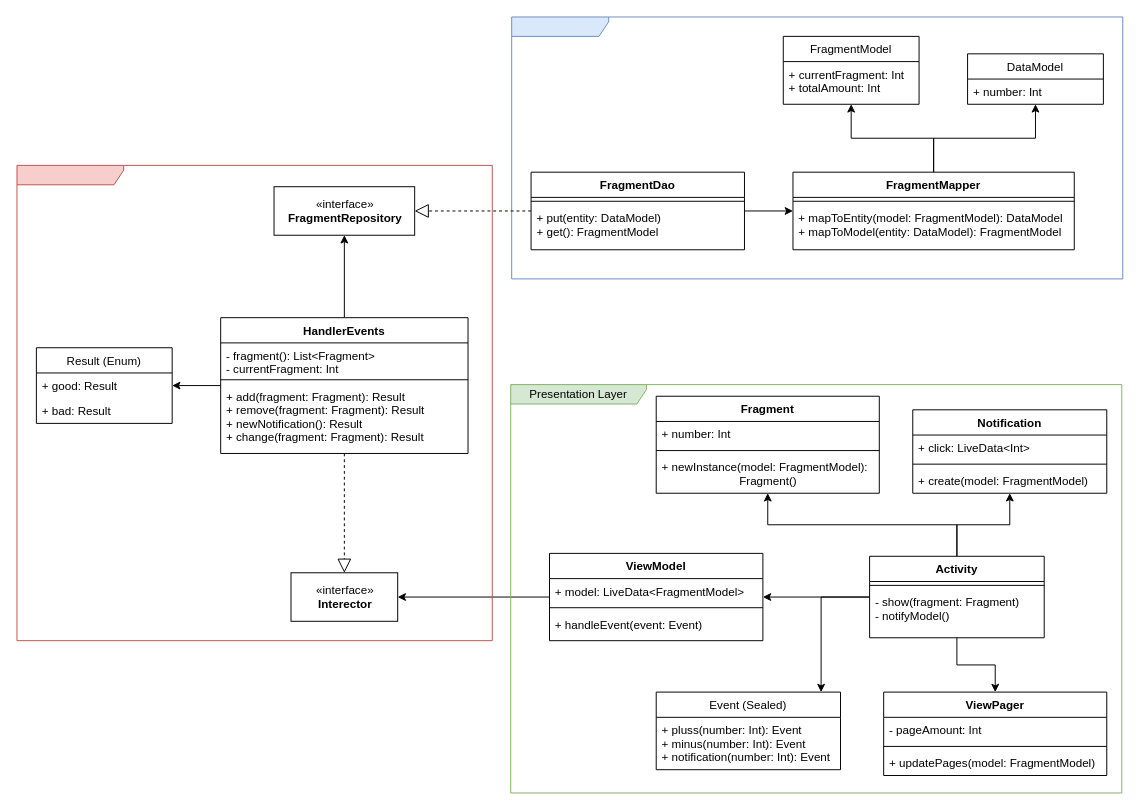
Some shapes in this 1140 by 810 pixel diagram are drawn without their labels. Here are the shapes that lost their labels. From the top down, the centre of each, then its label:
the point at 817,147: Data Layer
the point at 254,402: Domain Layer
